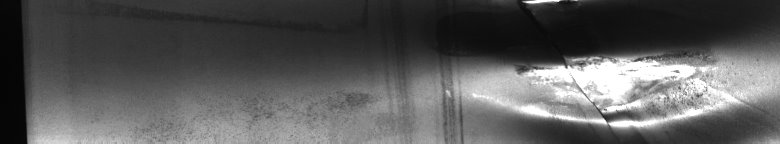ke: (446, 4, 741, 136)
